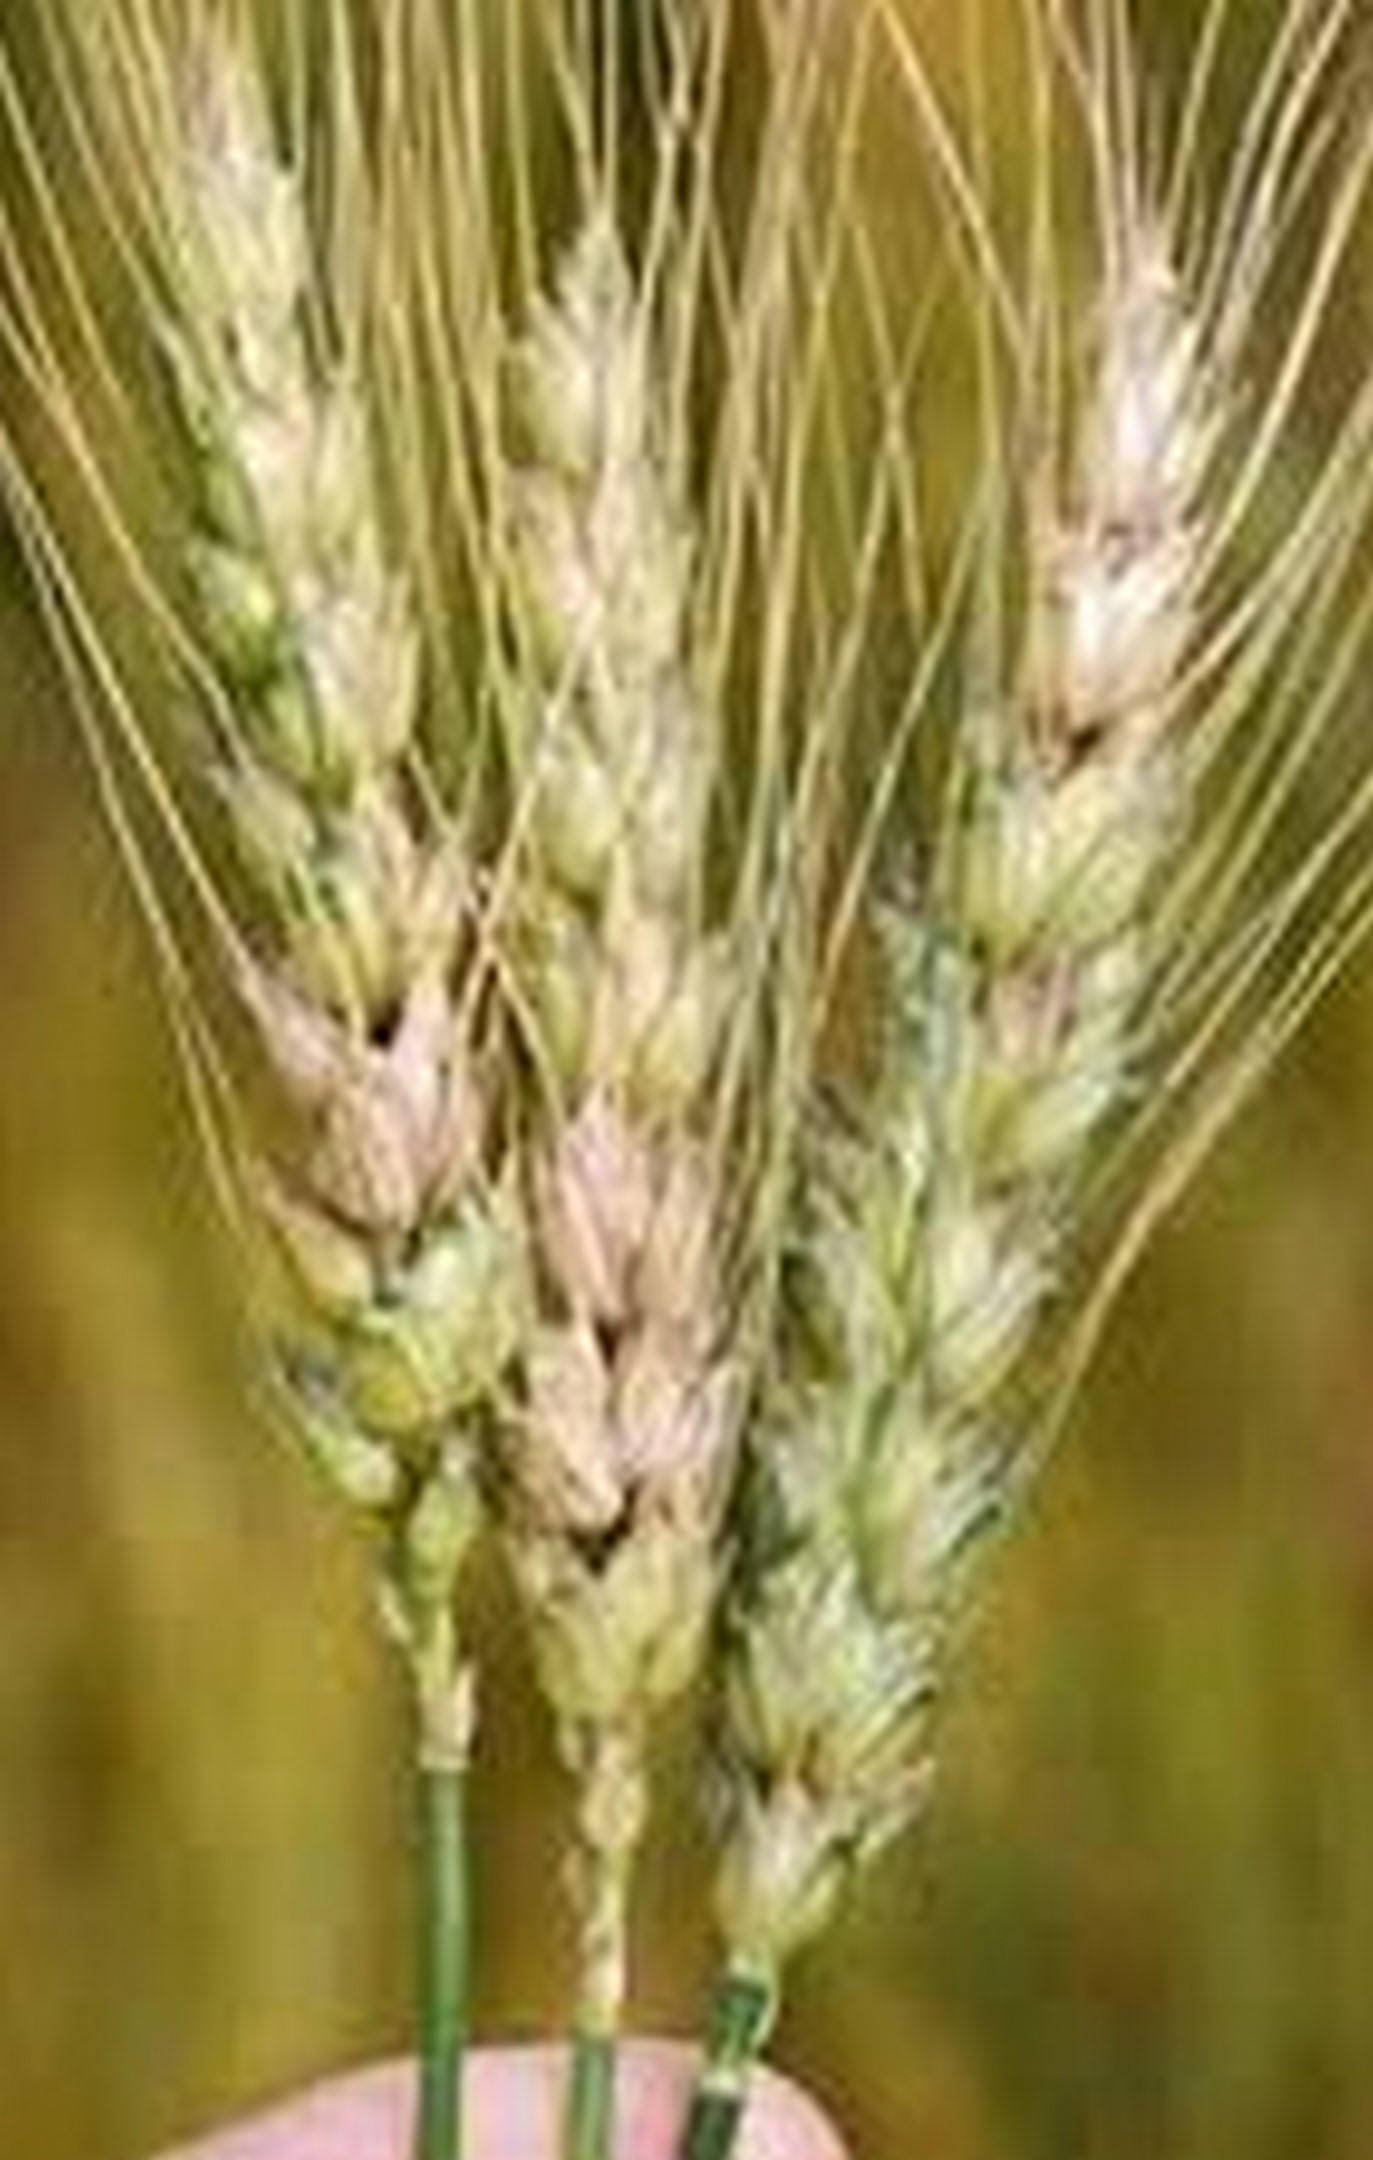Wheat scab: (716, 271, 1353, 1938), (58, 140, 496, 1529), (501, 189, 738, 1744)
